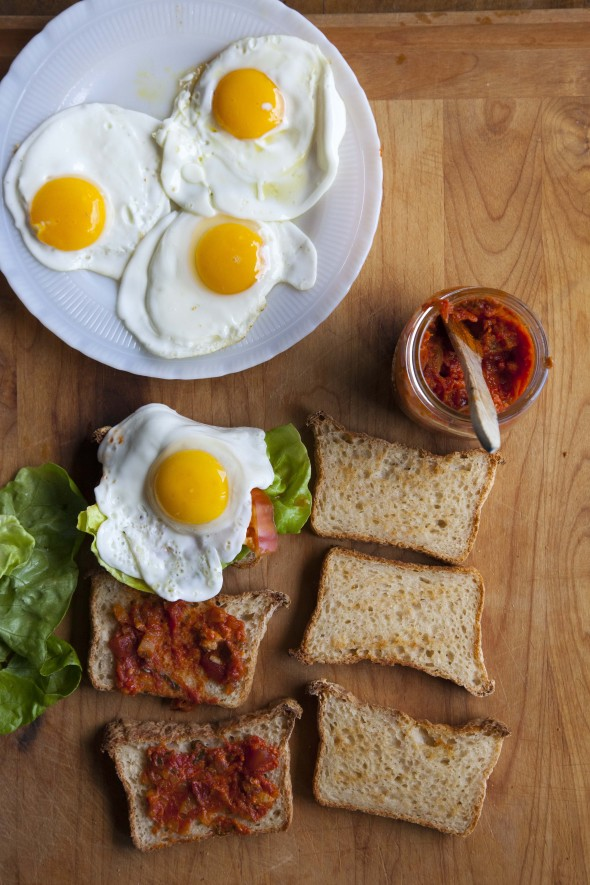fried egg: (62, 117, 313, 294), (120, 417, 237, 568)
slice of bread: (322, 432, 494, 676), (326, 694, 498, 827)
